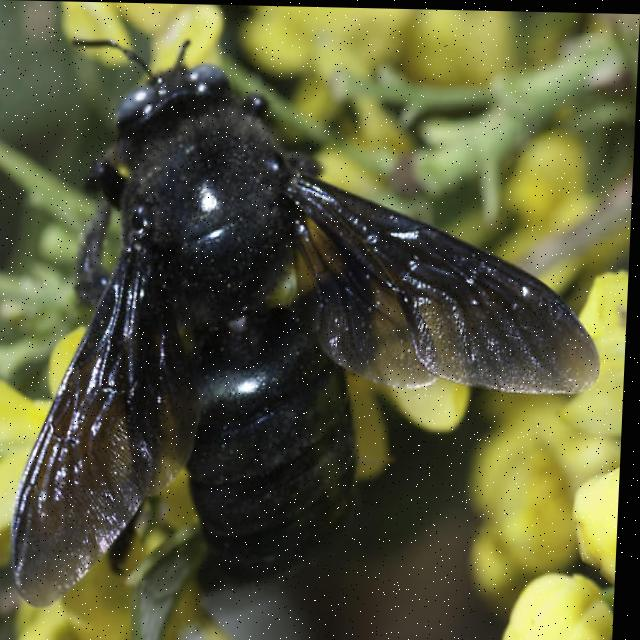Xylocopa: (10, 24, 623, 620)
